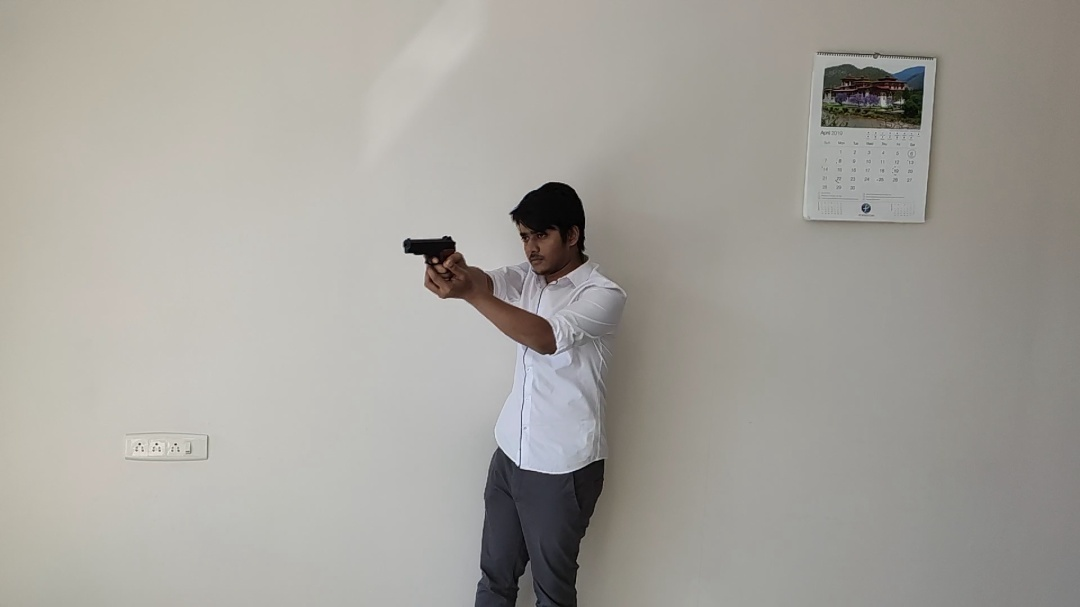gun: (402, 235, 456, 279)
